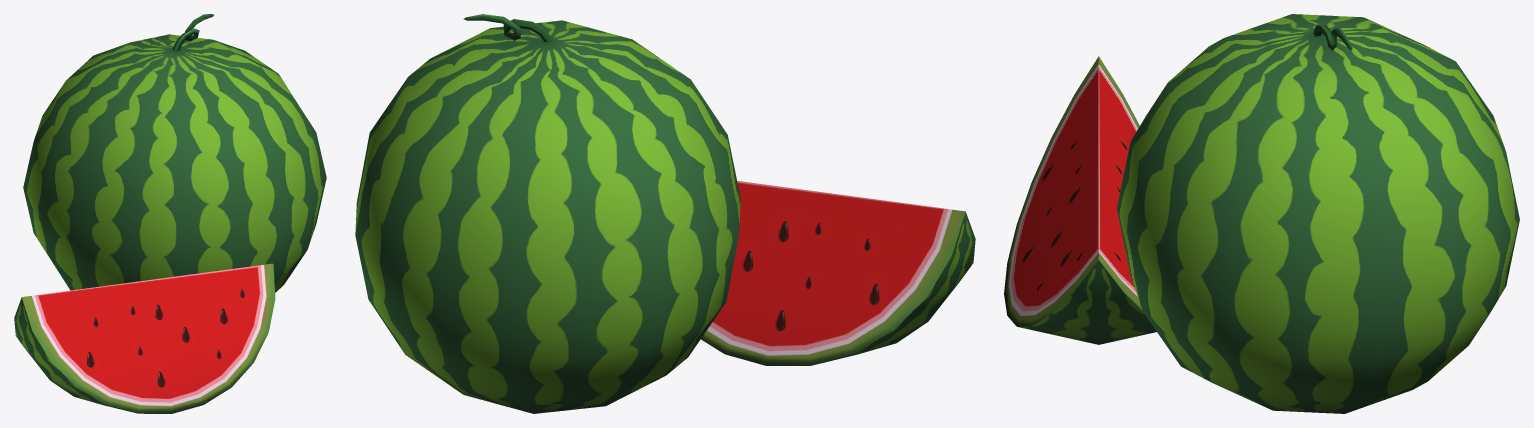
Rendered from Watermelon.fbx.
3 renders of one model, left to right at view 1: azimuth 30°, elevation 25°; view 2: azimuth 150°, elevation 25°; view 3: azimuth 270°, elevation 25°, orthographic. The views are drawn at different scales.
Visible parts, largest first — view 1: 055; view 2: 055; view 3: 055.
Boxes of the visible parts, box(x1,y1,x2,y2) form: 055: box(14, 14, 326, 413); 055: box(355, 14, 975, 413); 055: box(1004, 14, 1519, 413).
Bounding box in the file's own units: 54.22 × 40.64 × 49.25.
Materials: 1 (1 with a texture image).
